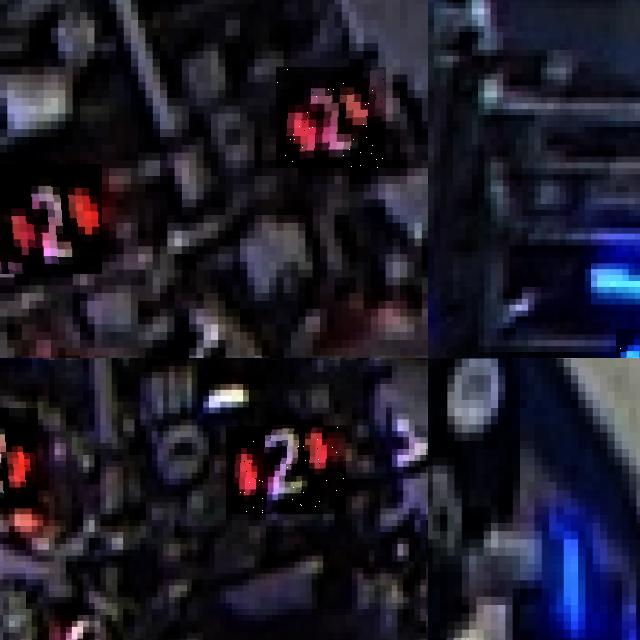R2: (0, 164, 102, 273), (276, 67, 386, 168), (226, 426, 346, 514), (0, 407, 37, 508)
